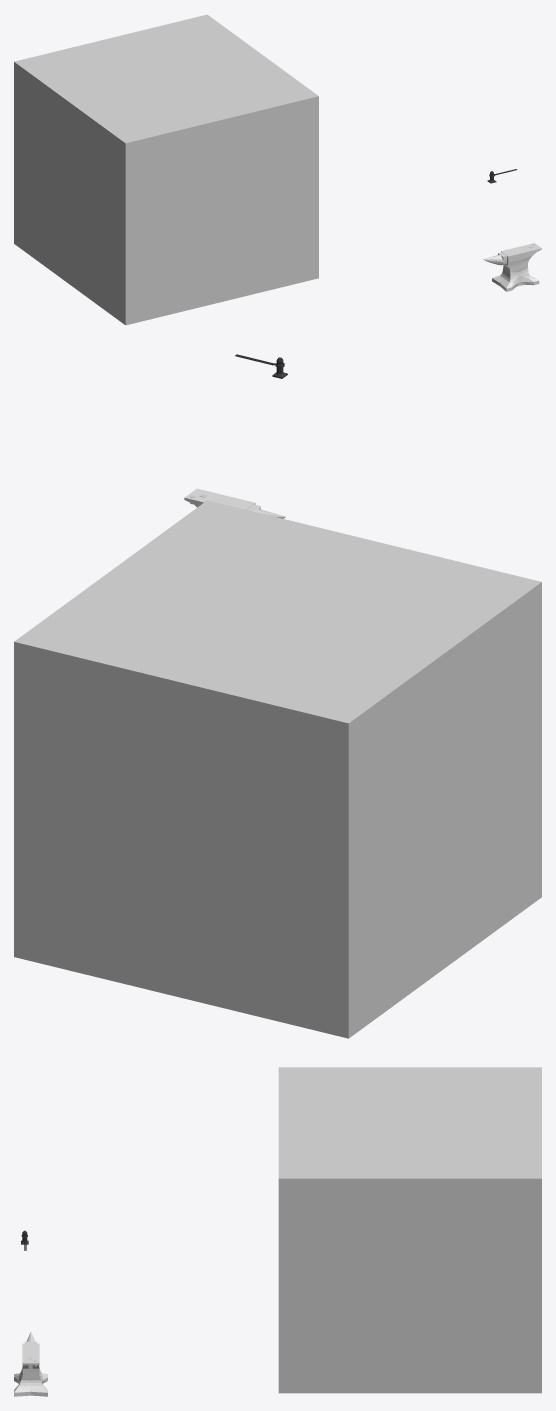
Rendered from flatter.dae.
The picture shows the model from 3 angles, top to bottom: view 1: azimuth 30°, elevation 25°; view 2: azimuth 150°, elevation 25°; view 3: azimuth 270°, elevation 25°; orthographic projection. The views are drawn at different scales.
Parts seen in each view (by area): view 1: Cube_004, Cube_002; view 2: Cube_004, Cube_002; view 3: Cube_004, Cube_002.
Part boxes in pixels (x1,y1,x2,y2): Cube_004: (14,14,318,325); Cube_002: (483,243,541,291); Cube_004: (14,500,541,1038); Cube_002: (184,488,285,518); Cube_004: (278,1067,541,1393); Cube_002: (14,1332,47,1396).
Size of the model in its own units: 3.18 by 4.01 by 1.8.
Materials: 1 (1 with a texture image).
